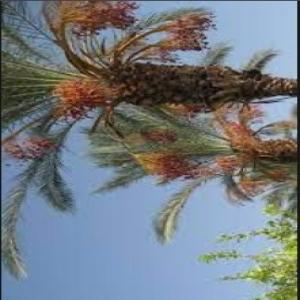palm tree: (0, 0, 297, 280)
